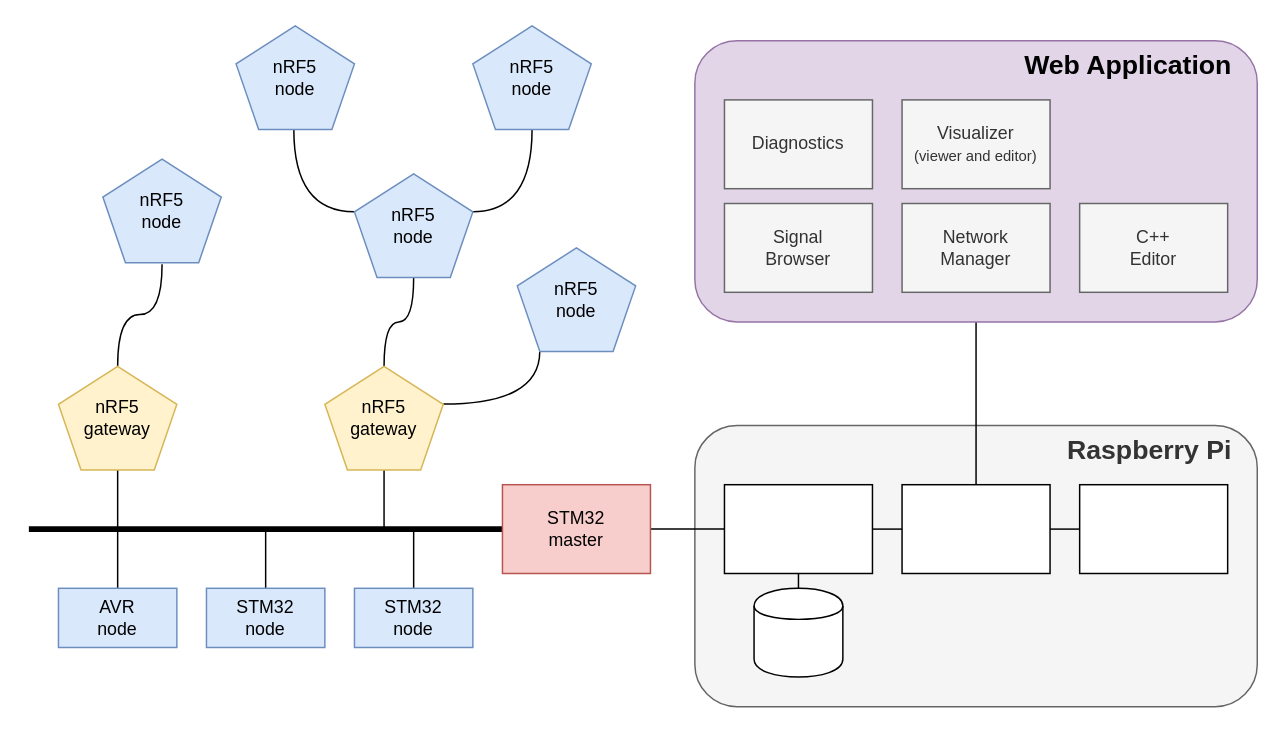
Some shapes in this 1283 by 733 pixel diagram are drawn without their labels. Each missing label, with the centre of its shape:
"Build toolchain" belongs at point 1153,528.
"Connection manager" belongs at point 797,528.
"History" belongs at point 798,632.
"WebSocket HTTP server" belongs at point 975,528.
